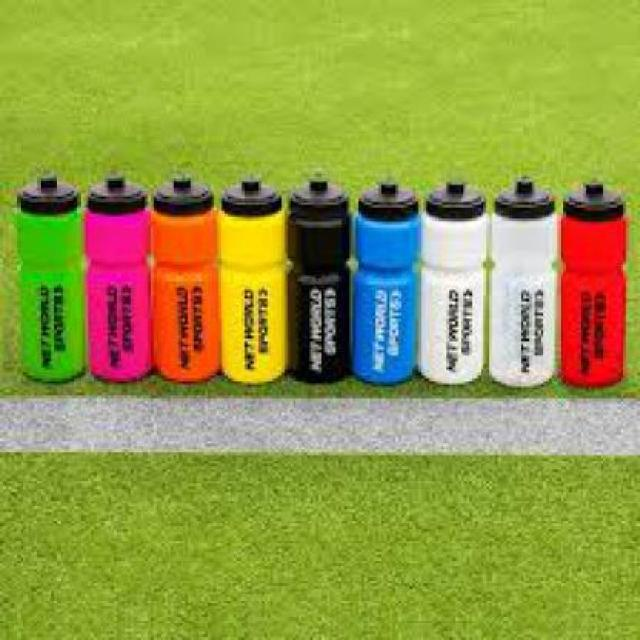Drinking: (8, 171, 638, 432)
